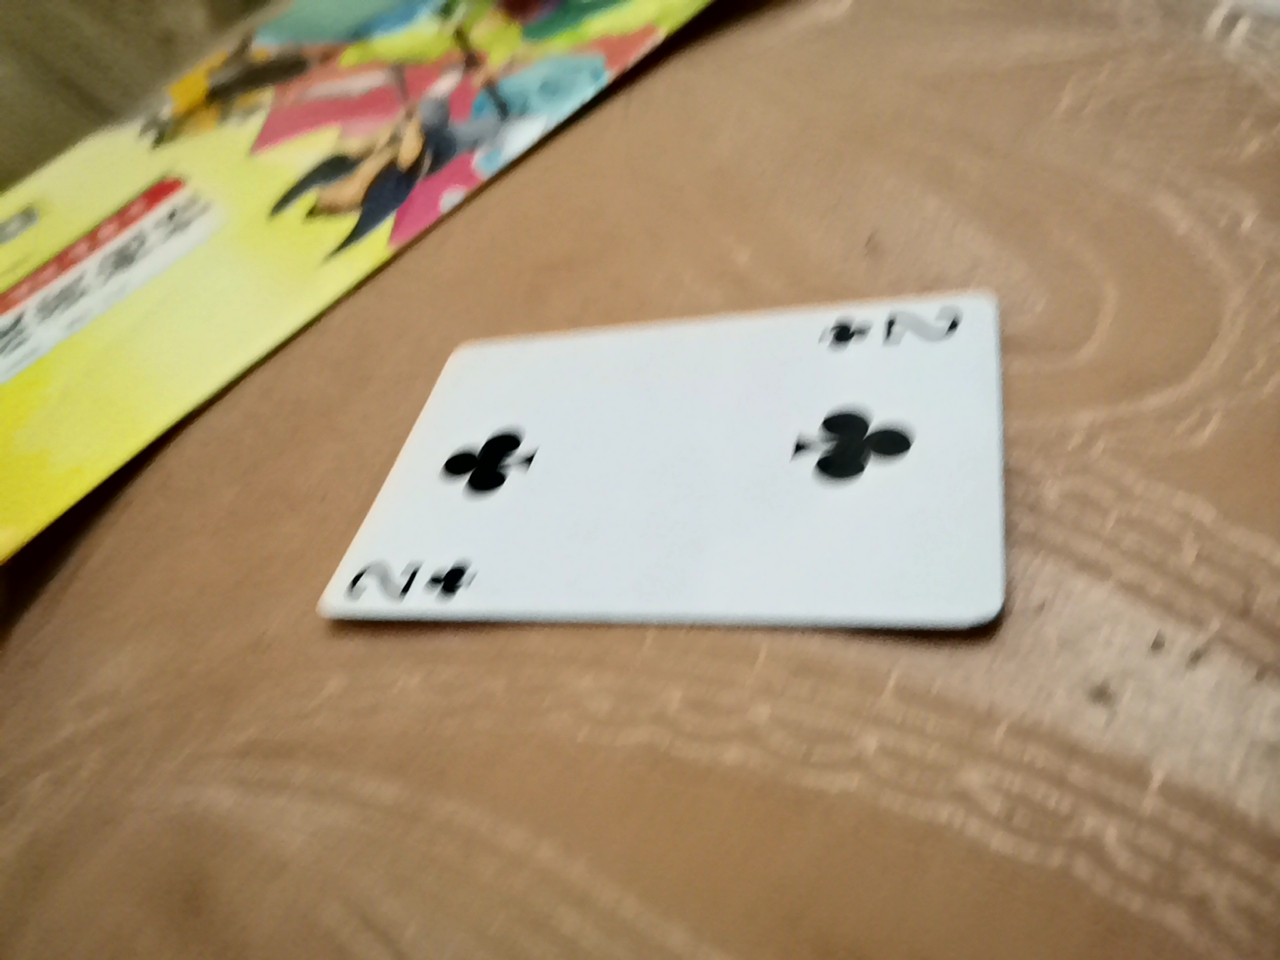mh 2: (282, 341, 998, 699)
